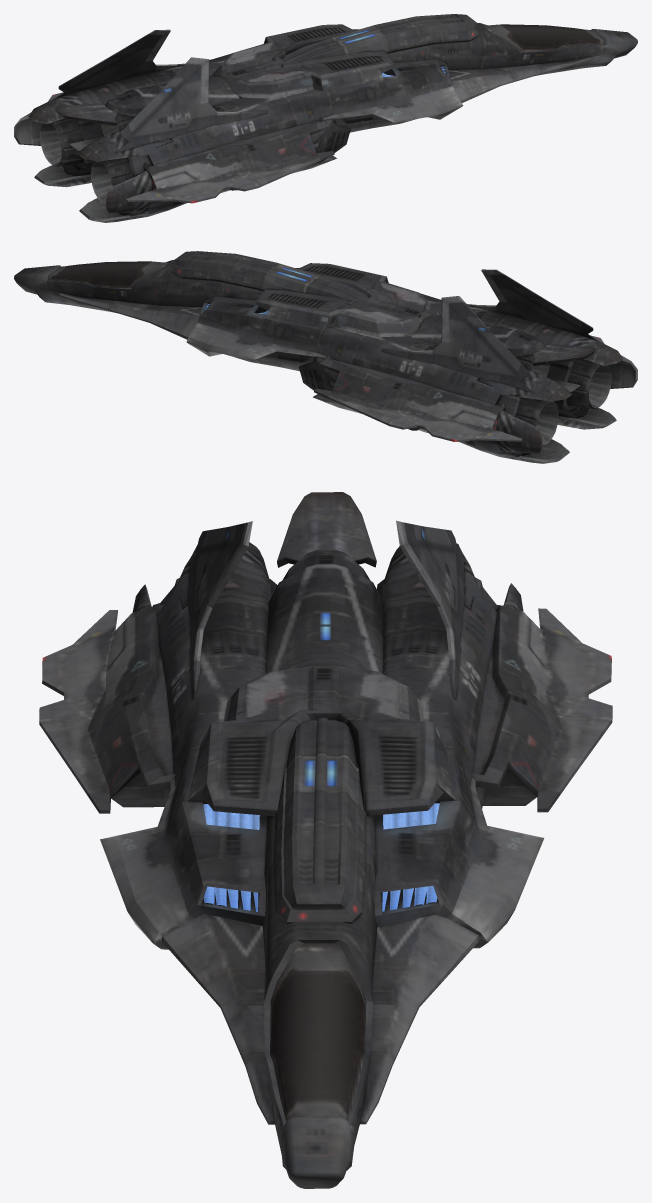
The model's file is feroxbomber.obj.
3 views of the same model, one above another, from view 1: azimuth 30°, elevation 25°; view 2: azimuth 150°, elevation 25°; view 3: azimuth 270°, elevation 25° (orthographic). The views are drawn at different scales.
Visible parts, largest first — view 1: Ferox_Fuselage001; view 2: Ferox_Fuselage001; view 3: Ferox_Fuselage001.
Boxes of the visible parts, x1,y1,x2,y2 form: Ferox_Fuselage001: [14, 14, 637, 222]; Ferox_Fuselage001: [14, 251, 637, 463]; Ferox_Fuselage001: [39, 492, 612, 1188].
Size of the model in its own units: 38.02 by 8.72 by 16.4.
Materials: 1 (1 with a texture image).
